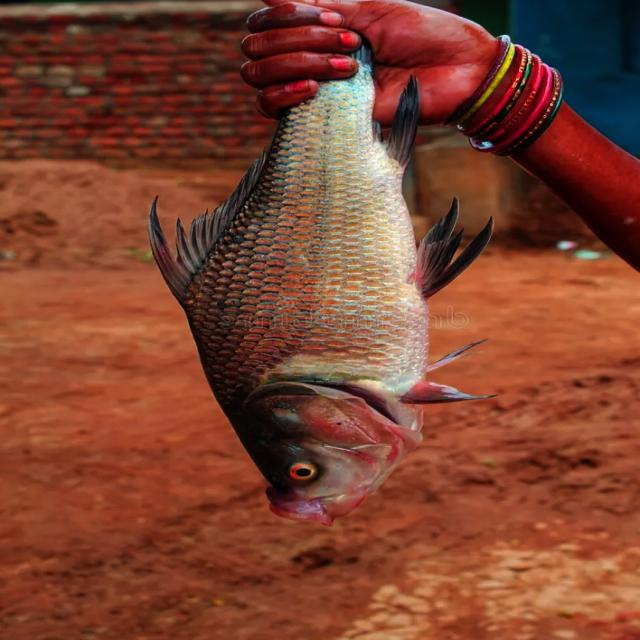Catla: (149, 40, 498, 531)
